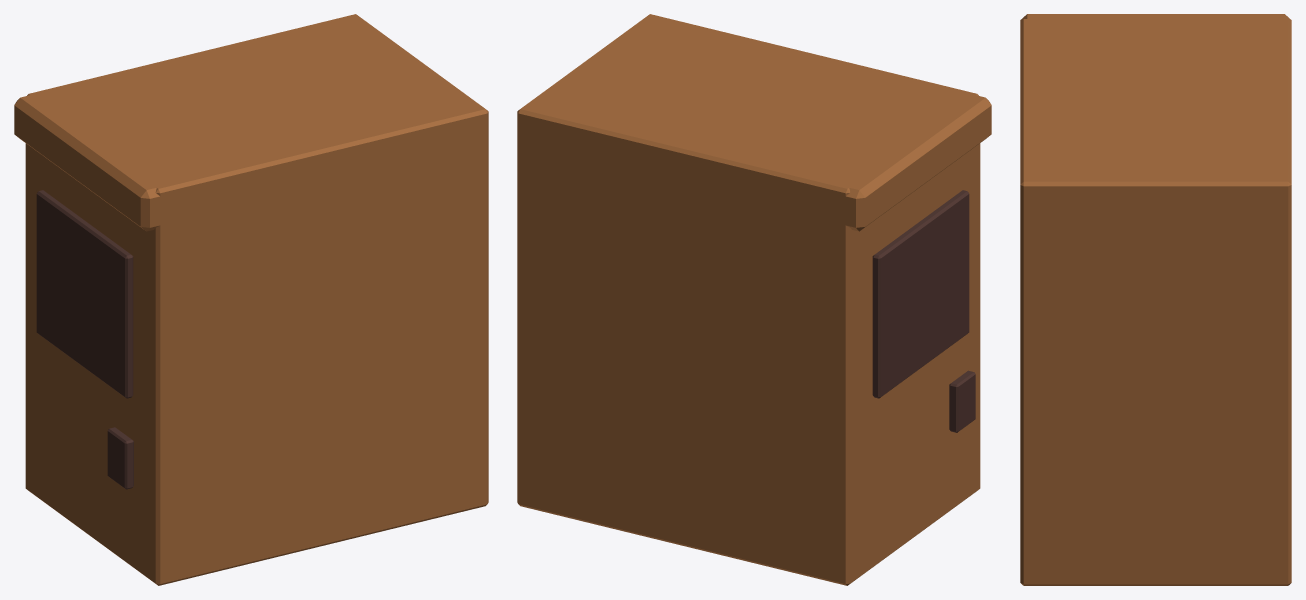
The model's file is pupitre_fer.glb.
The picture shows the model from 3 angles, left to right: view 1: azimuth 30°, elevation 25°; view 2: azimuth 150°, elevation 25°; view 3: azimuth 270°, elevation 25°; orthographic projection.
Parts seen in each view (by area): view 1: pupitre_fer; view 2: pupitre_fer; view 3: pupitre_fer.
Boxes of the visible parts, x1,y1,x2,y2 form: pupitre_fer: (14, 14, 488, 585); pupitre_fer: (517, 14, 991, 585); pupitre_fer: (1020, 14, 1291, 585).
Bounding box in the file's own units: 1.05 × 1.15 × 0.7.
Materials: 1 (1 with a texture image).
